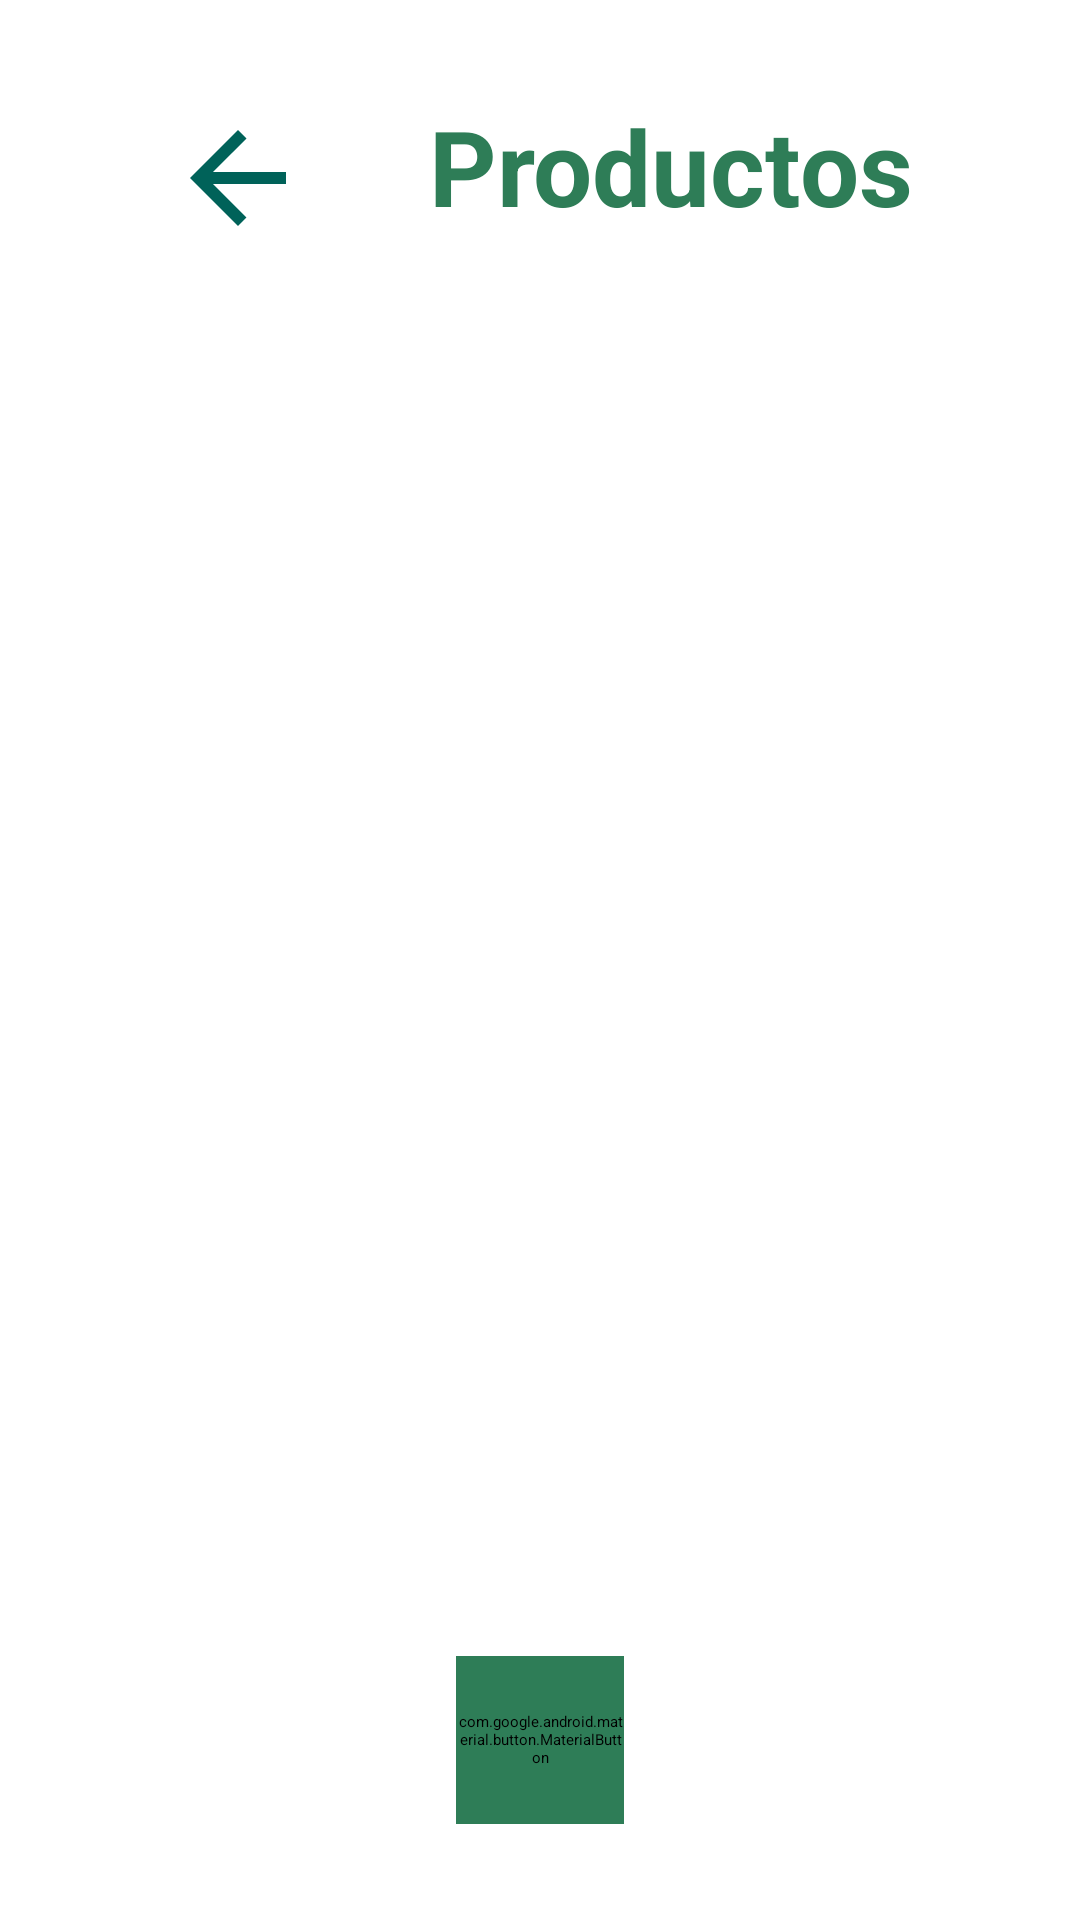

Point at icon controls on the screen. Image size 1080px×1920px, points as (x=x, y=y).
arrow back: (x=238, y=178)
